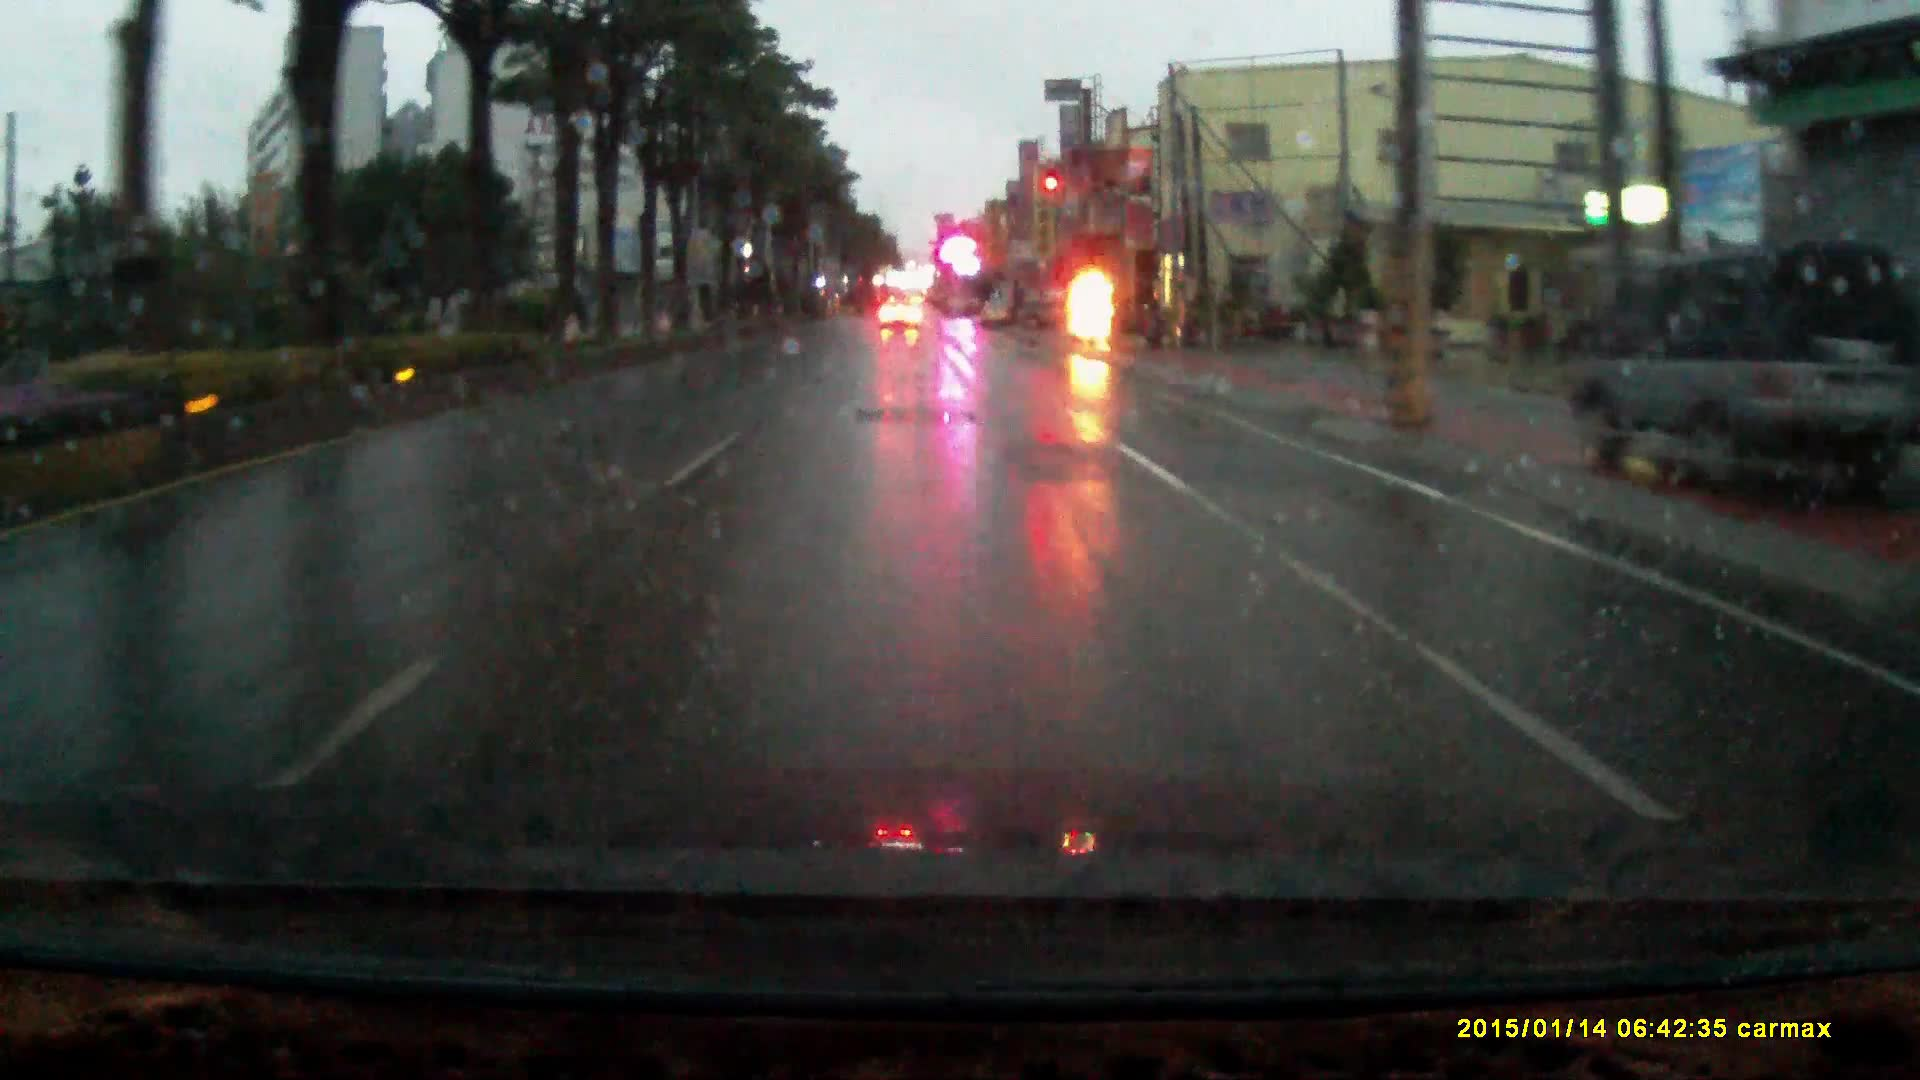vehicle: (1582, 232, 1908, 495), (1015, 284, 1083, 326), (878, 287, 924, 324)
